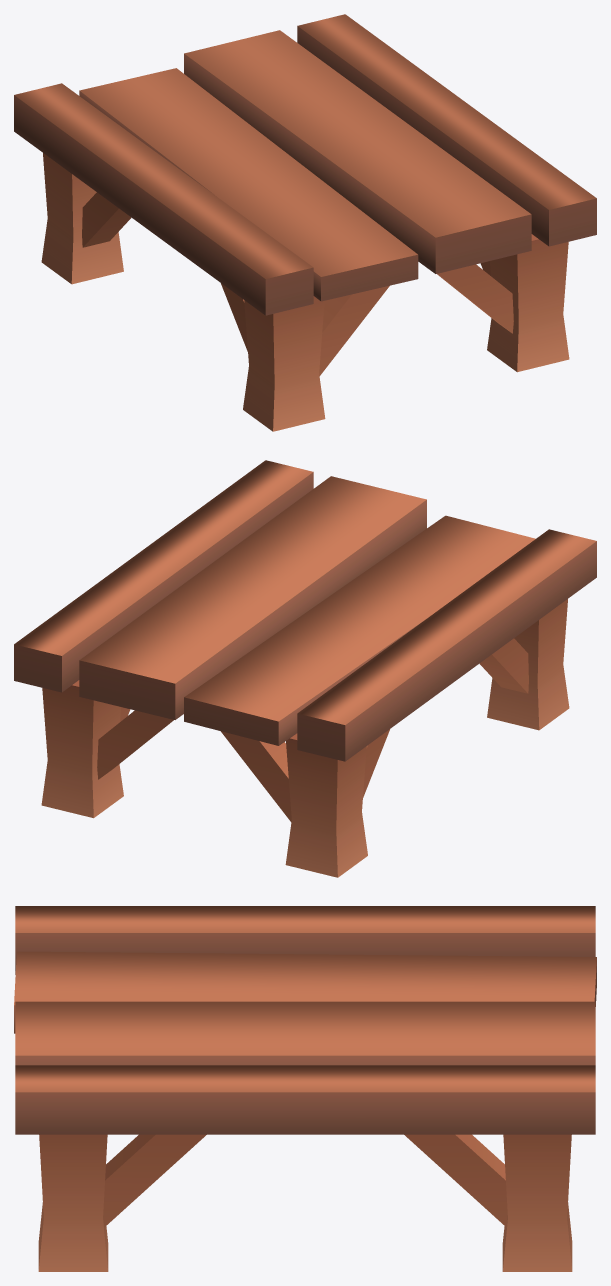
Rendered from structure-platform-small.glb.
3 renders of one model, top to bottom at view 1: azimuth 30°, elevation 25°; view 2: azimuth 150°, elevation 25°; view 3: azimuth 270°, elevation 25°, orthographic. The views are drawn at different scales.
Parts seen in each view (by area): view 1: structure-platform-small; view 2: structure-platform-small; view 3: structure-platform-small.
Boxes of the visible parts, <box> form: structure-platform-small: <box>14,14,596,431</box>; structure-platform-small: <box>14,460,596,877</box>; structure-platform-small: <box>14,906,596,1271</box>.
Bounding box in the file's own units: 1.9 × 0.9 × 2.51.
Materials: 1 (1 with a texture image).
